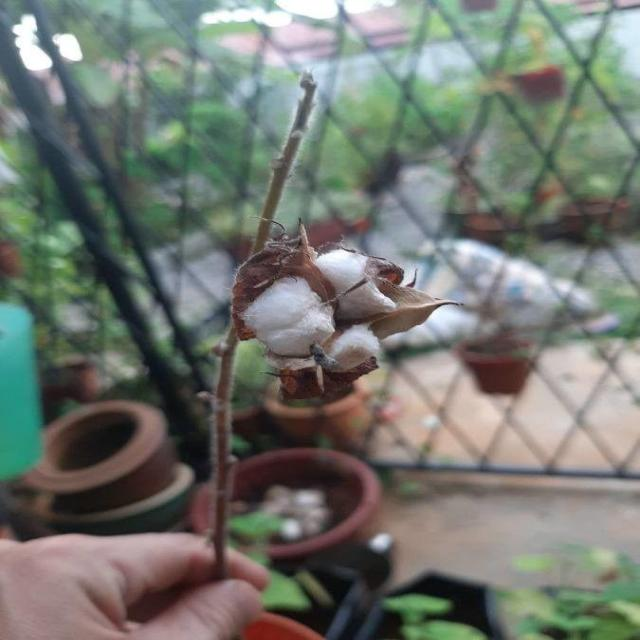Early_blight: (219, 208, 474, 407)
